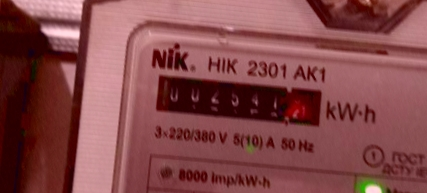0: (168, 79, 183, 101), (189, 79, 203, 101)
1: (269, 85, 283, 109)
2: (209, 80, 225, 103)
4: (250, 83, 263, 105)
5: (228, 82, 244, 106)
6: (291, 103, 303, 117)
screen: (143, 60, 337, 134)
